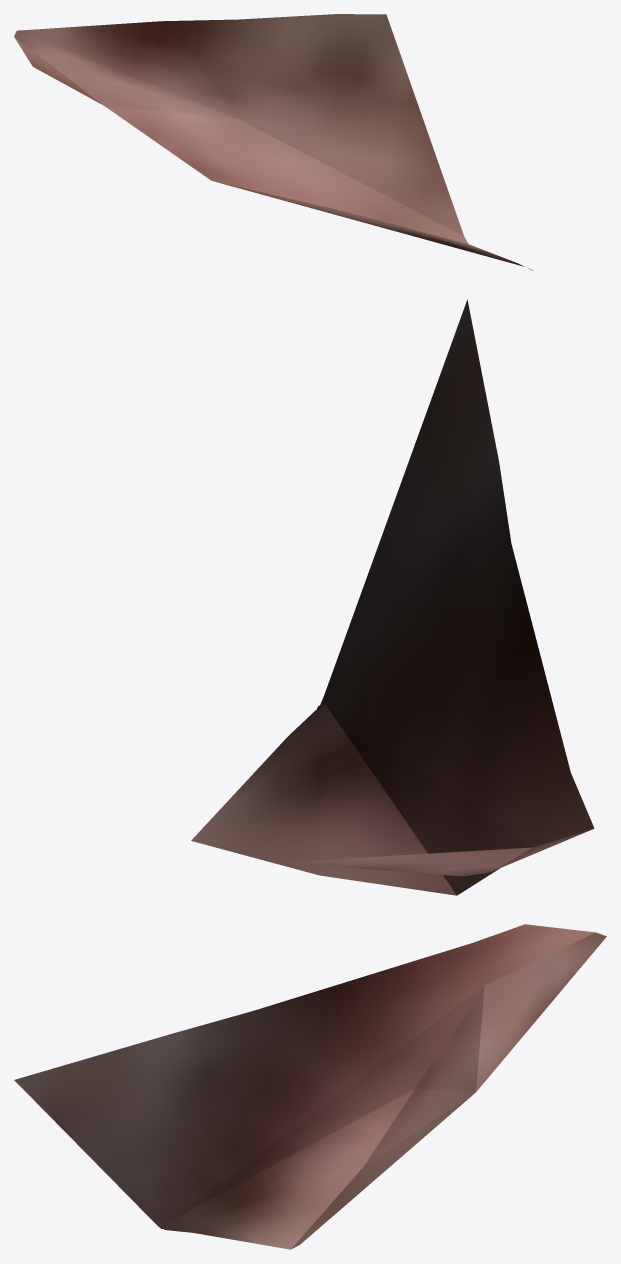
3 renders of one model, top to bottom at view 1: azimuth 30°, elevation 25°; view 2: azimuth 150°, elevation 25°; view 3: azimuth 270°, elevation 25°, orthographic. The views are drawn at different scales.
Size of the model in its own units: 0.0579 by 0.0295 by 0.0933.
Materials: 1 (1 with a texture image).
